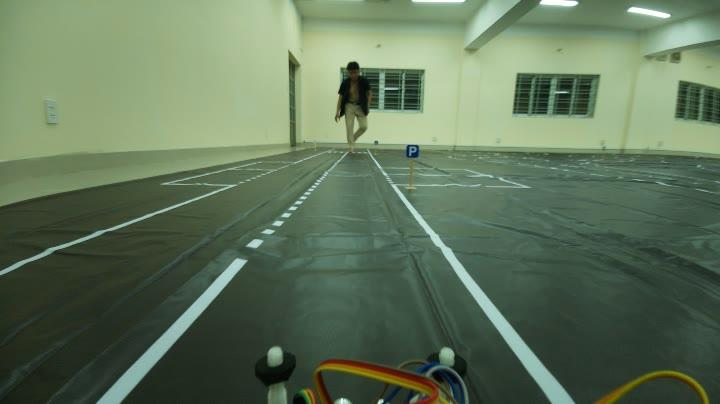parking: (404, 138, 421, 163)
